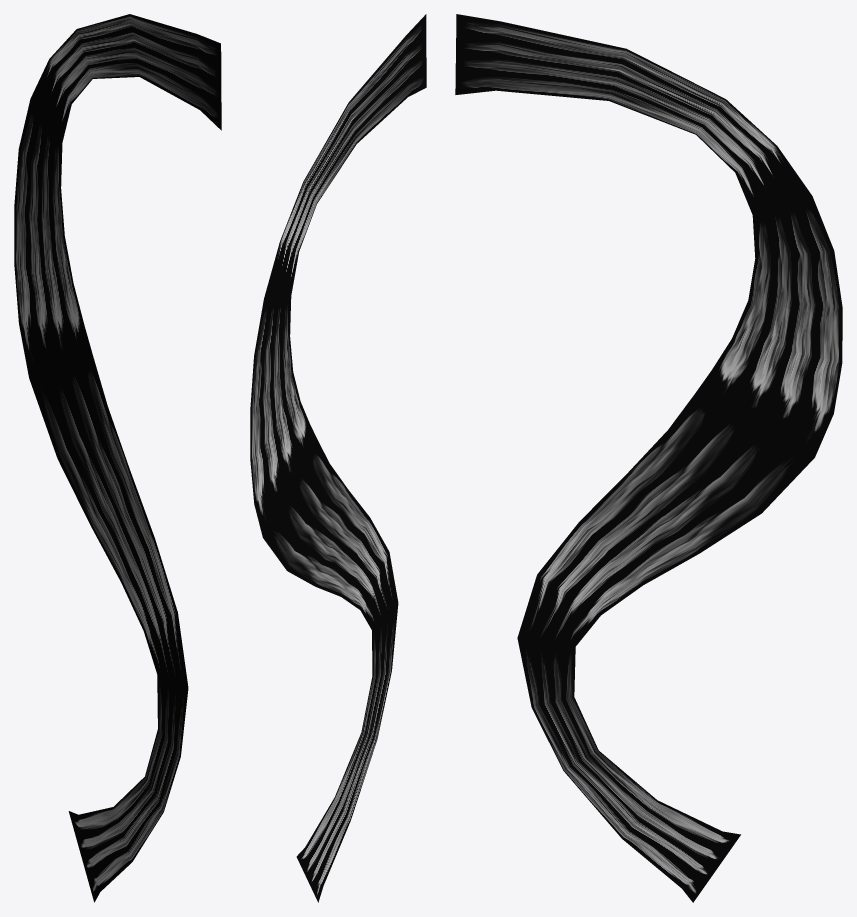
The model's file is Amateras0.fbx.
The picture shows the model from 3 angles, left to right: view 1: azimuth 30°, elevation 25°; view 2: azimuth 150°, elevation 25°; view 3: azimuth 270°, elevation 25°; orthographic projection. The views are drawn at different scales.
Parts seen in each view (by area): view 1: SM_WEP_Eff_Amaterasu_E_02.mo; view 2: SM_WEP_Eff_Amaterasu_E_02.mo; view 3: SM_WEP_Eff_Amaterasu_E_02.mo.
Part boxes in pixels (<box>): SM_WEP_Eff_Amaterasu_E_02.mo: <box>14,14,221,902</box>; SM_WEP_Eff_Amaterasu_E_02.mo: <box>250,14,426,902</box>; SM_WEP_Eff_Amaterasu_E_02.mo: <box>455,14,842,902</box>.
Bounding box in the file's own units: 7.63e-06 × 171 × 67.64.
